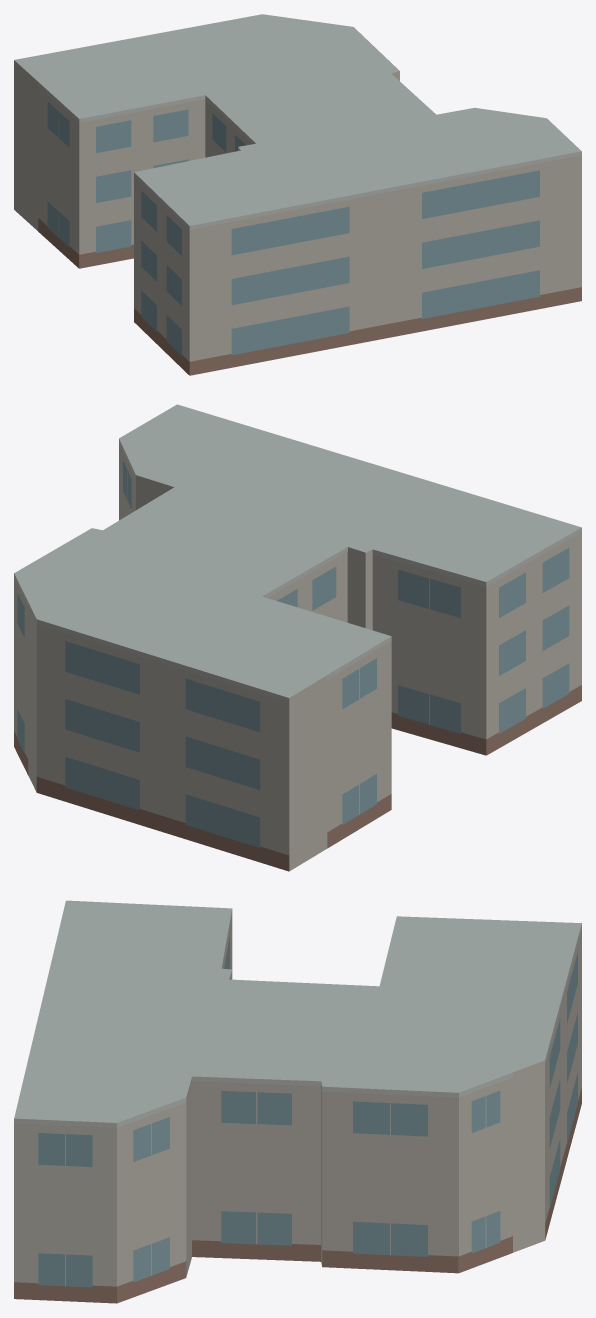
File: survey-upis-32874571.glb
3 views of the same model, one above another, from view 1: azimuth 30°, elevation 25°; view 2: azimuth 150°, elevation 25°; view 3: azimuth 270°, elevation 25° (orthographic). The views are drawn at different scales.
Visible parts, largest first — view 1: survey-upis-32874571.tmp; view 2: survey-upis-32874571.tmp; view 3: survey-upis-32874571.tmp.
Part boxes in pixels (x1,y1,x2,y2): survey-upis-32874571.tmp: (14, 14, 581, 375); survey-upis-32874571.tmp: (14, 404, 581, 871); survey-upis-32874571.tmp: (14, 900, 581, 1303).
Bounding box in the file's own units: 24.2 × 9.15 × 26.1.
